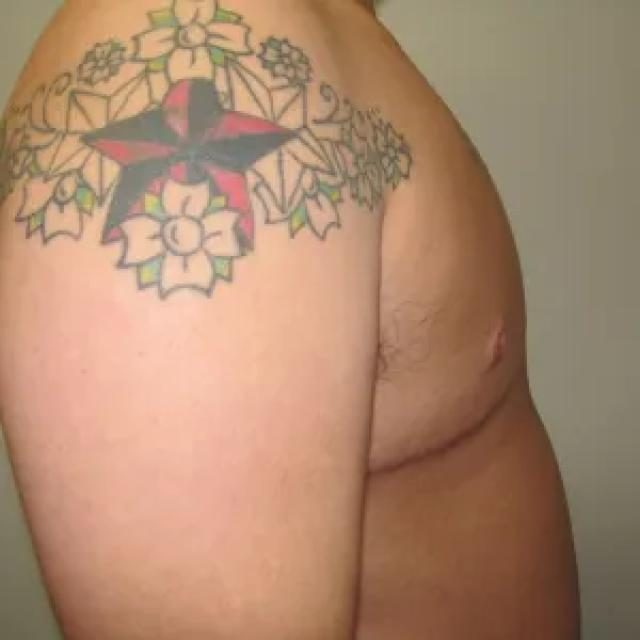Seno herido: (353, 84, 541, 484)
